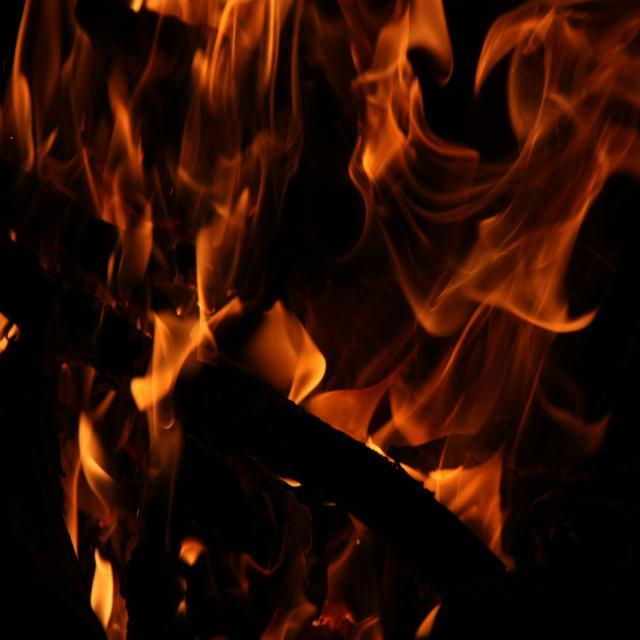Fire: (506, 17, 602, 294), (134, 206, 236, 367), (203, 11, 272, 181), (356, 28, 418, 164), (253, 306, 330, 398)
